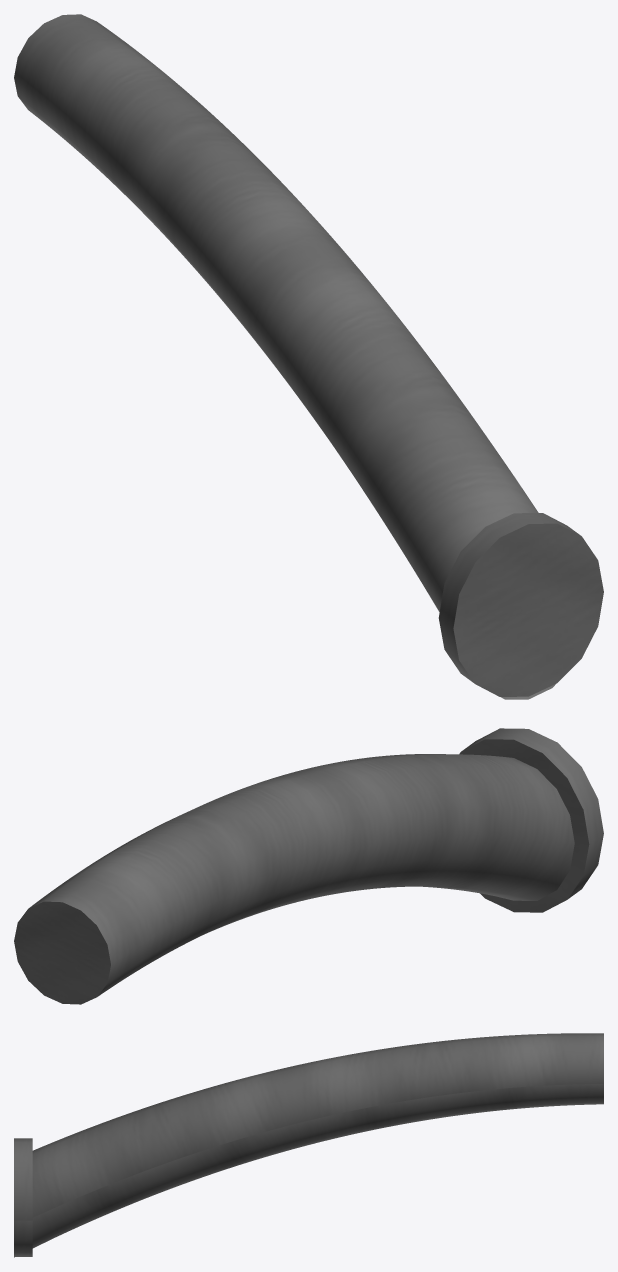
Rendered from mastarmcurve_4x1_inv.obj.
3 renders of one model, top to bottom at view 1: azimuth 30°, elevation 25°; view 2: azimuth 150°, elevation 25°; view 3: azimuth 270°, elevation 25°, orthographic. The views are drawn at different scales.
Visible parts, largest first — view 1: mastarm_4x1_inv; view 2: mastarm_4x1_inv; view 3: mastarm_4x1_inv.
Part boxes in pixels (x1,y1,x2,y2): mastarm_4x1_inv: [14, 14, 603, 699]; mastarm_4x1_inv: [14, 728, 603, 1004]; mastarm_4x1_inv: [14, 1033, 603, 1257].
Size of the model in its own units: 0.1865 by 0.4065 by 1.
